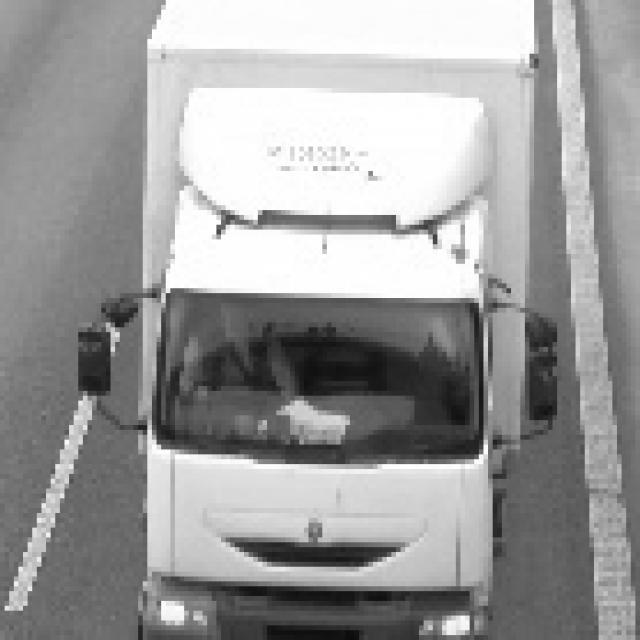truck: (74, 0, 552, 635)
